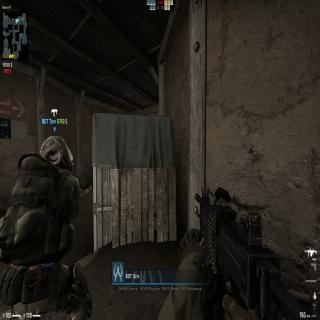CT-Head: (38, 135, 77, 176)
